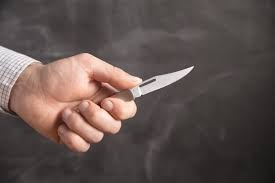knife: (100, 65, 195, 109)
